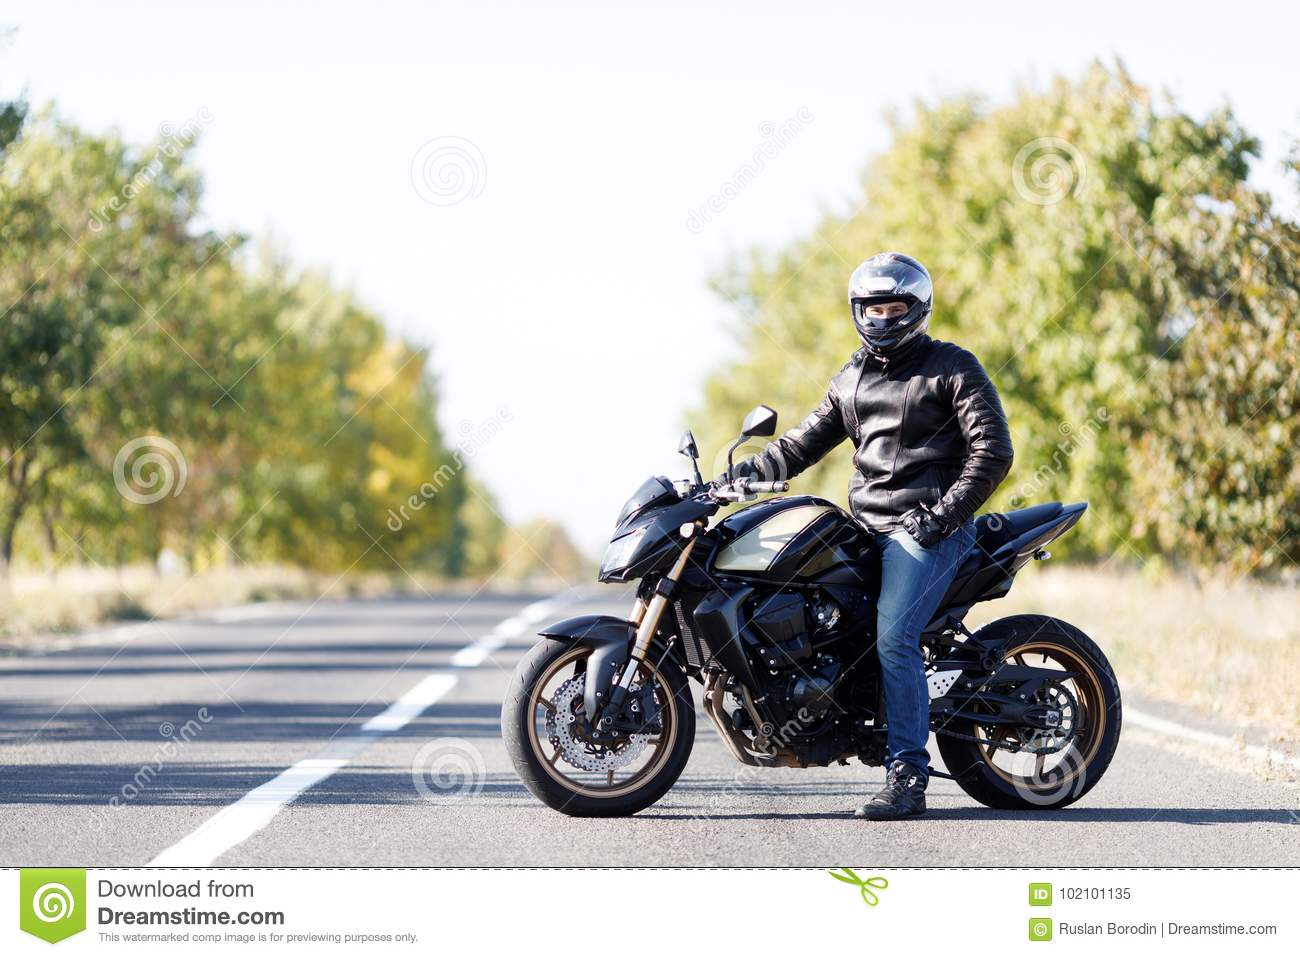helmet: (842, 255, 936, 348)
